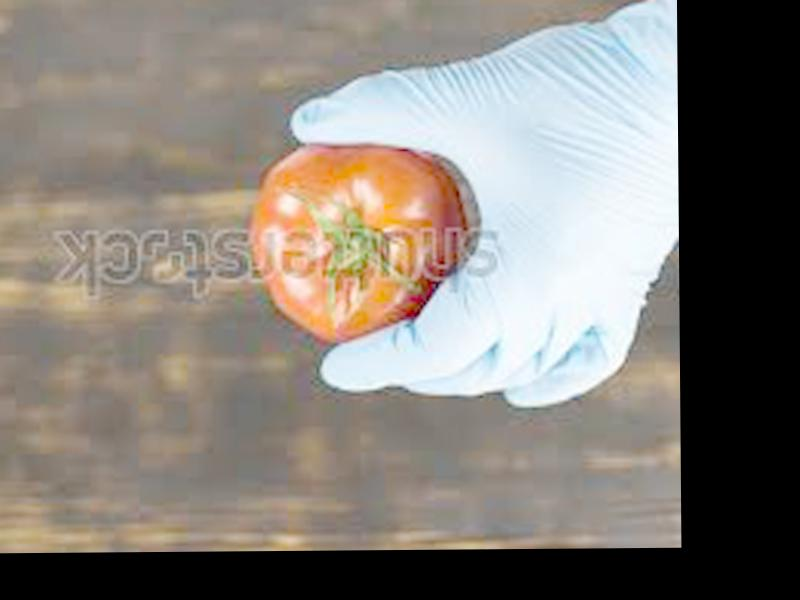Tomato: (246, 140, 470, 343)
